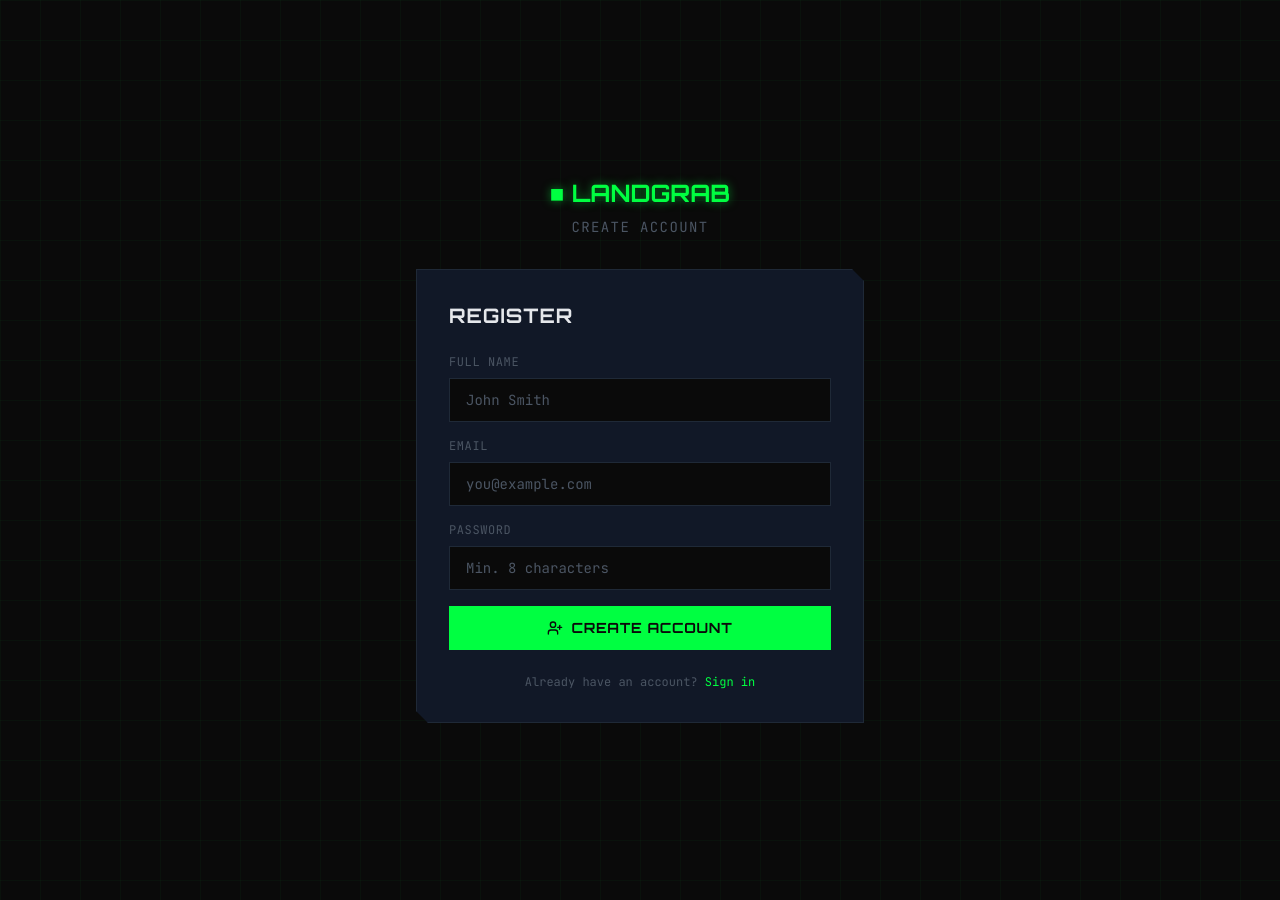
Test: RegisterPage › shows an error when the password is too short
Type "Jane Doe" into the field with placeholder "John Smith" at (640, 400), box [449, 378, 831, 422]
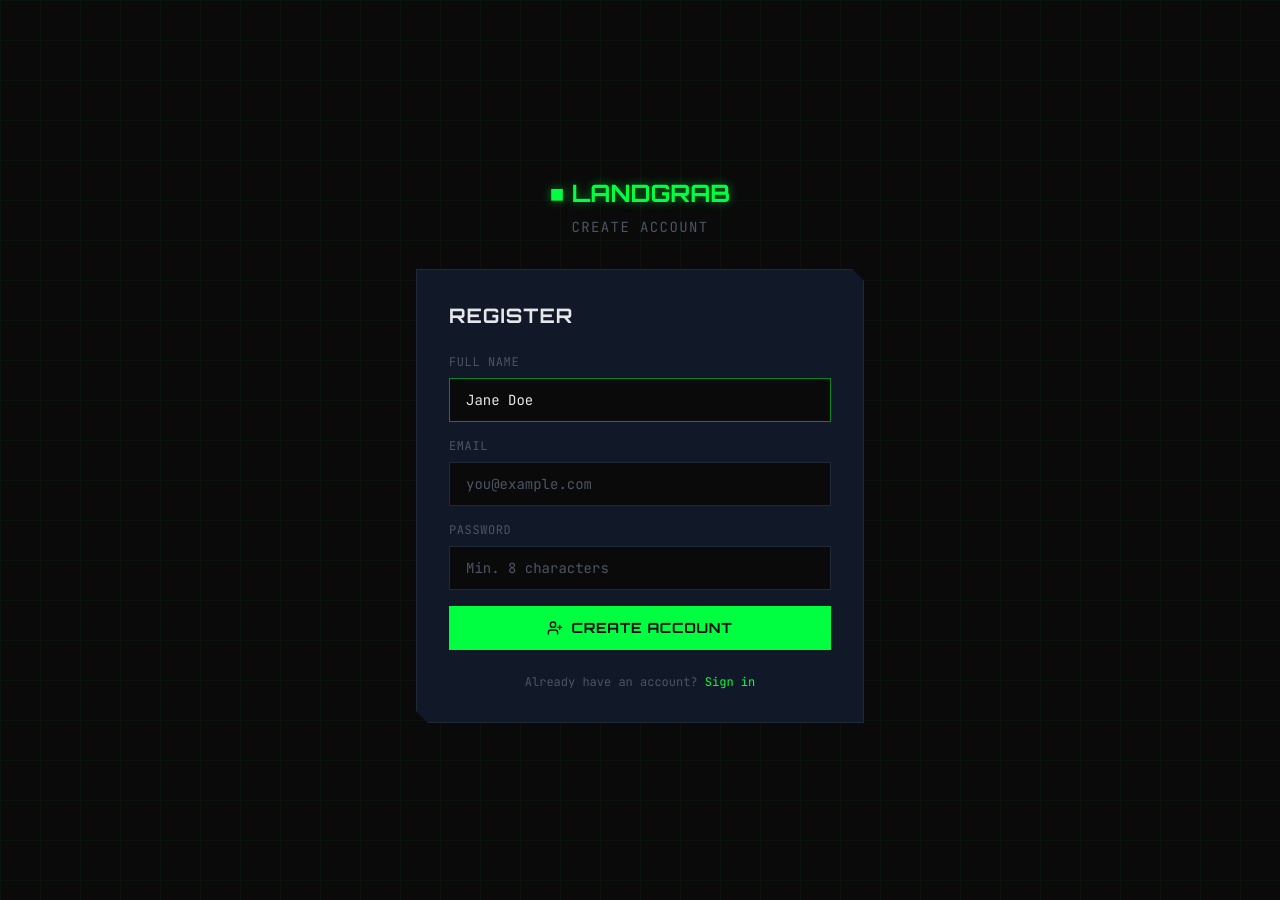
Type "jane@example.com" into the field with placeholder "you@example.com" at (640, 484), box [449, 462, 831, 506]
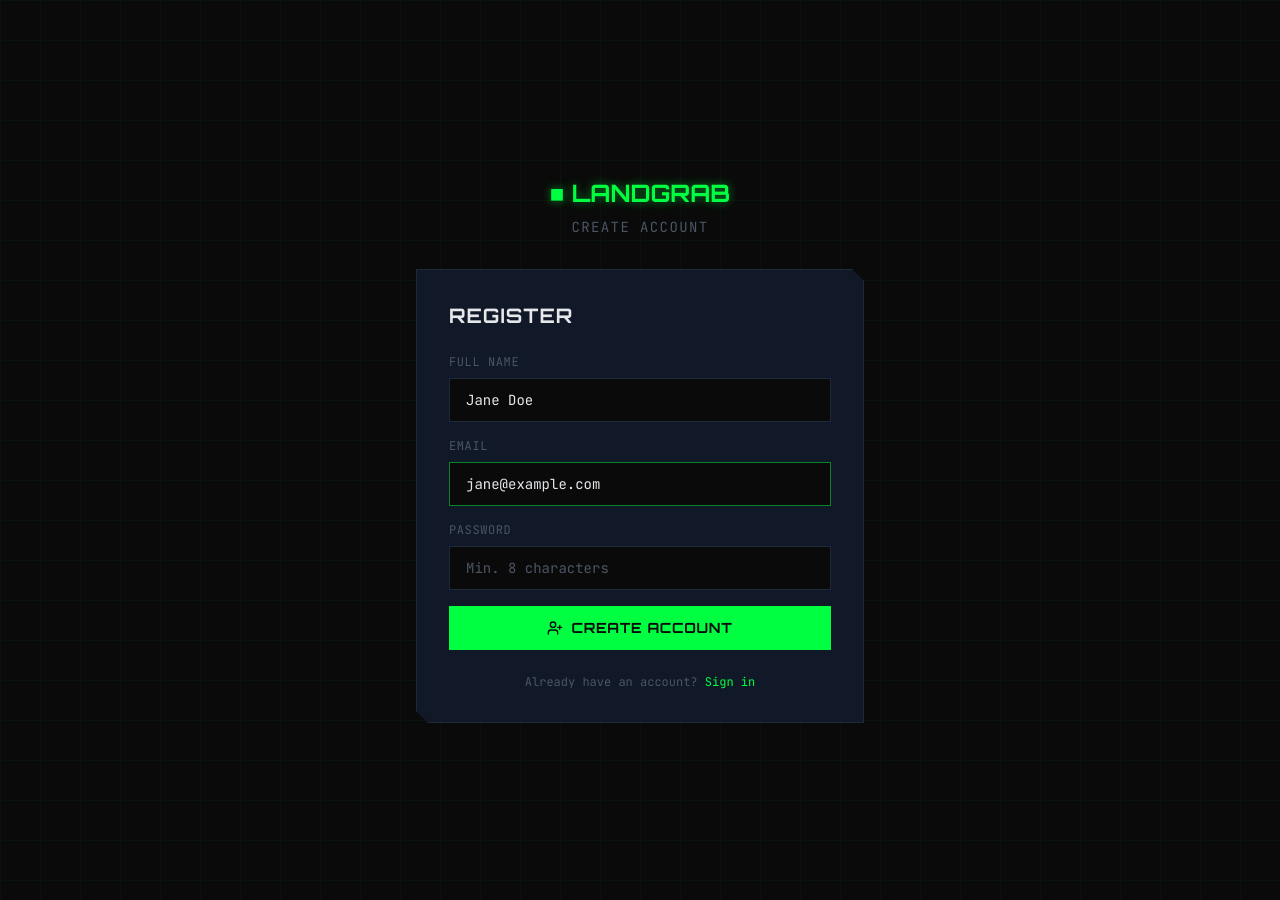
Type "short" into the password field with placeholder "Min. 8 characters" at (640, 568), box [449, 546, 831, 590]
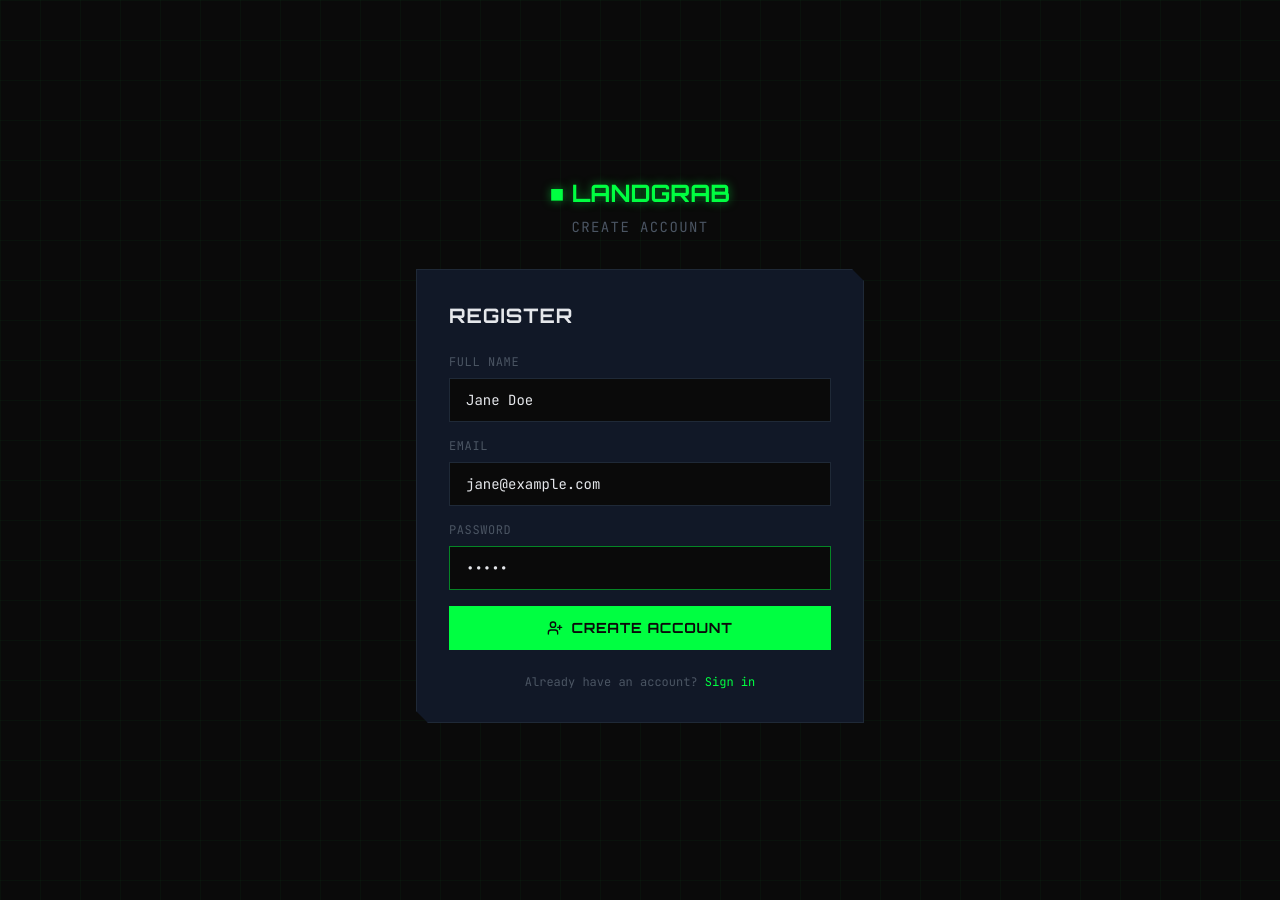
Click the button "Create Account" at (640, 628), box [449, 606, 831, 650]
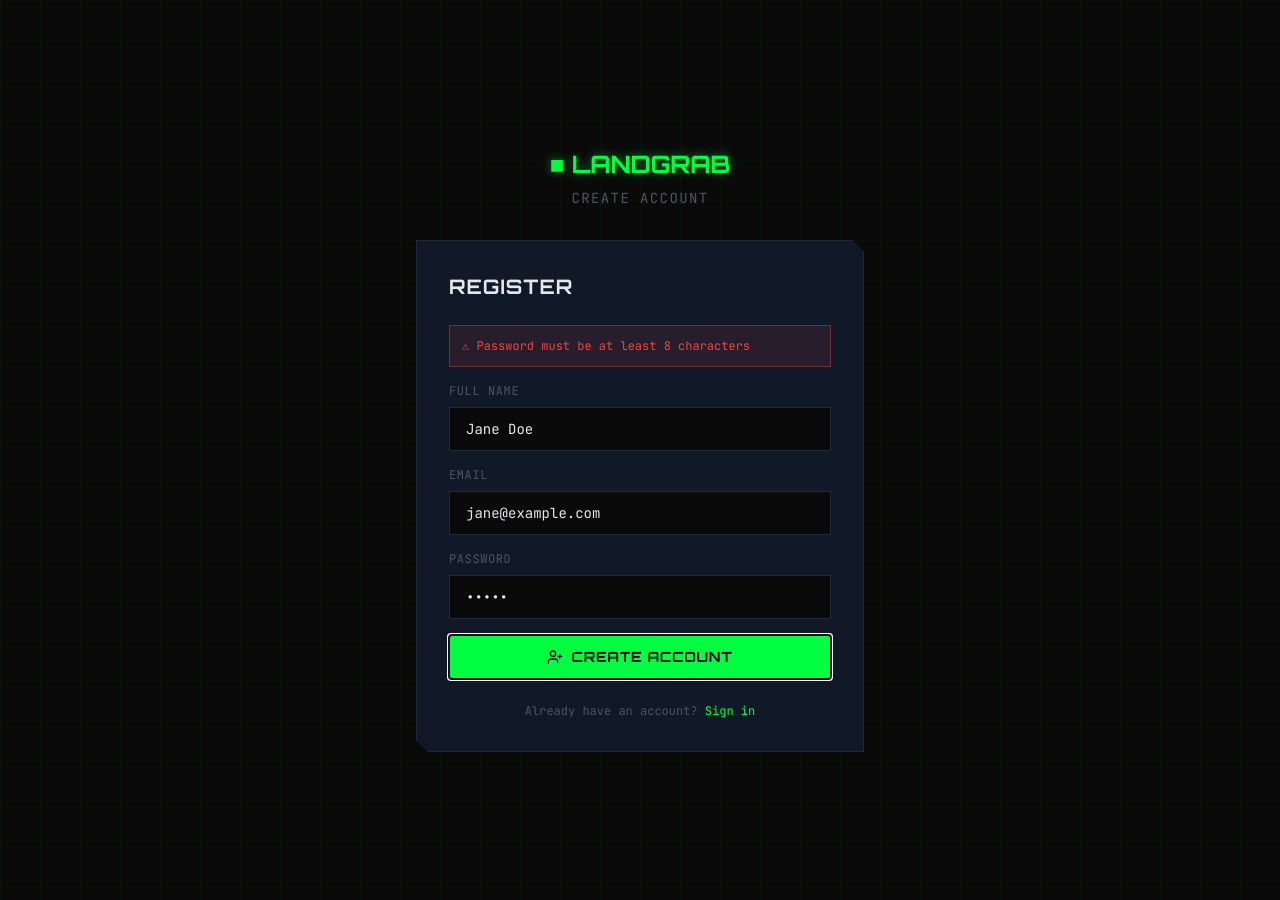
Now the text "⚠ Password must be at least 8 characters" is shown, box [449, 325, 831, 367]
